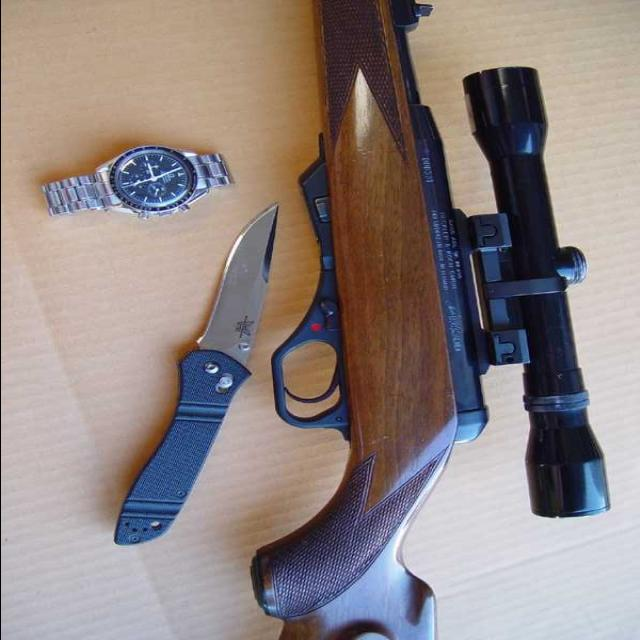heavyweapon: (244, 2, 621, 640)
